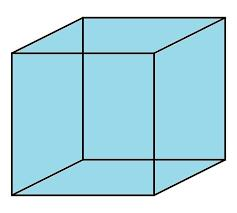cubos: (8, 14, 228, 201)
